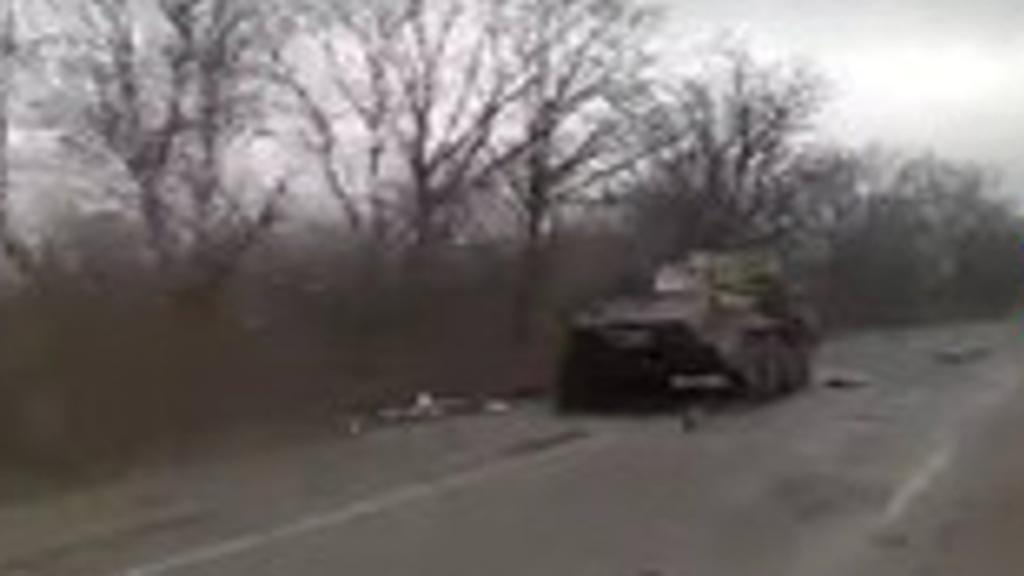APC-IFV: (540, 238, 828, 408)
